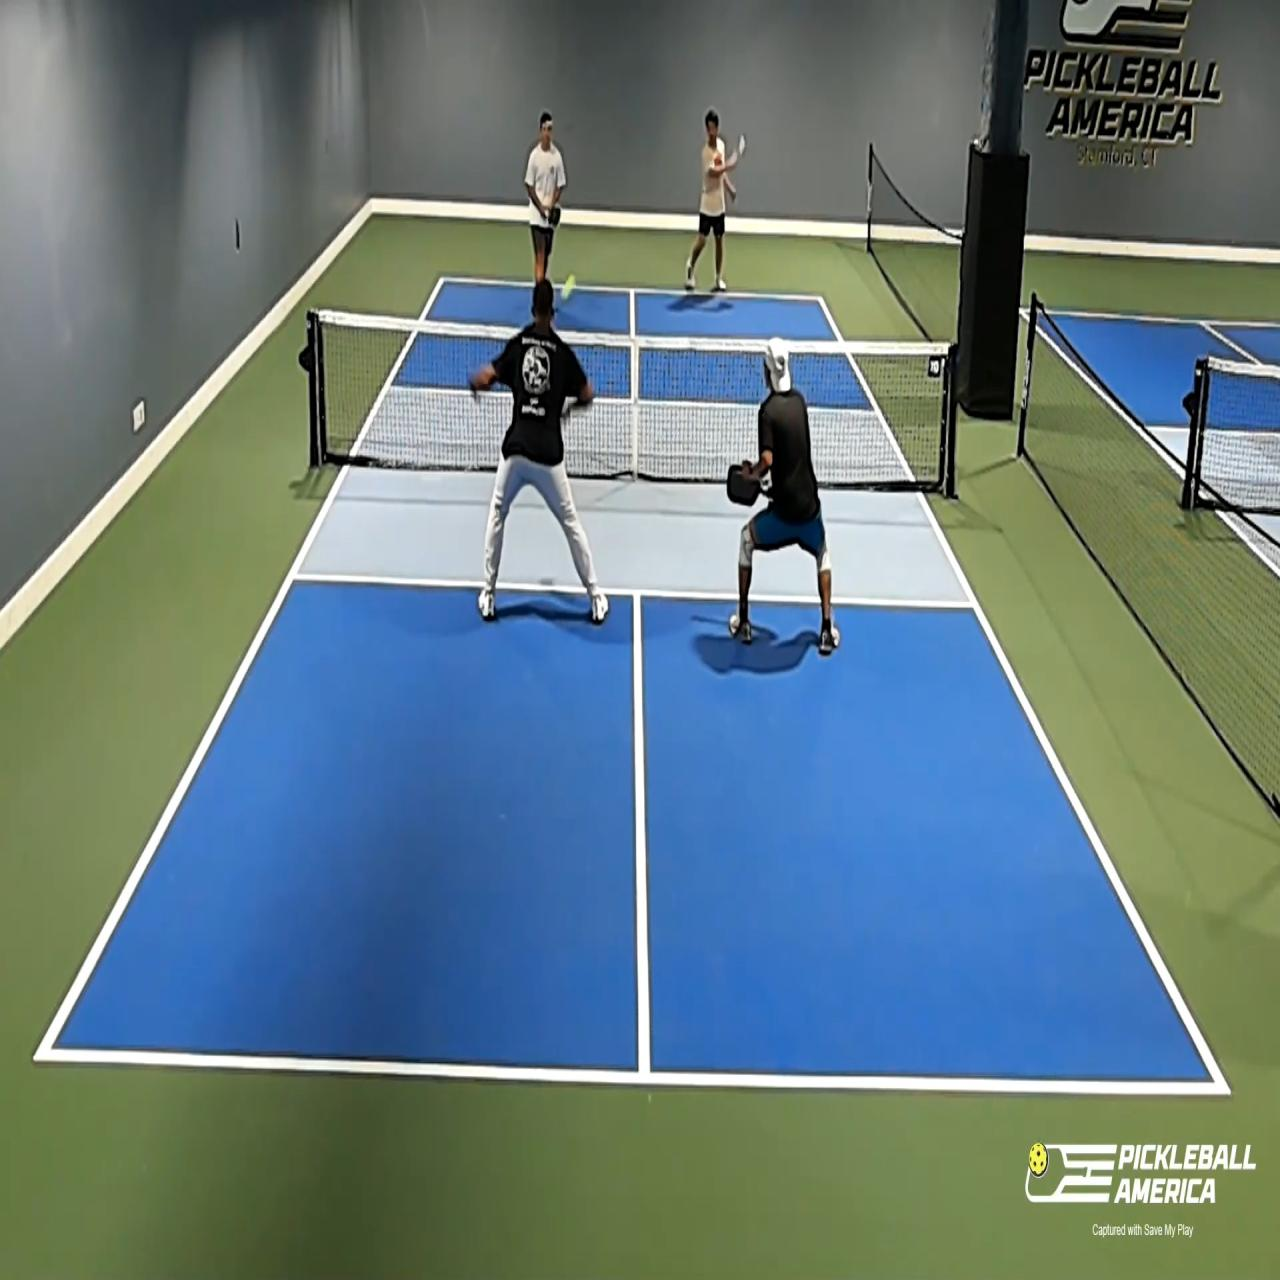Pickleball: (561, 274, 578, 301)
